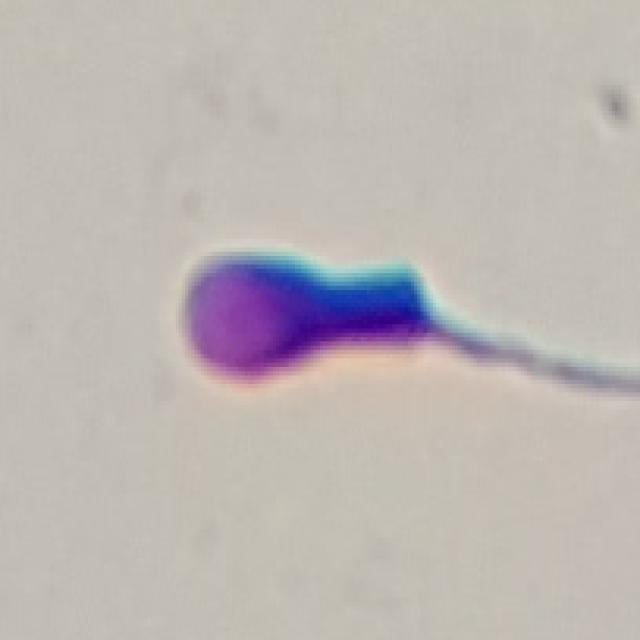abnormal sperm: (180, 246, 539, 388)
